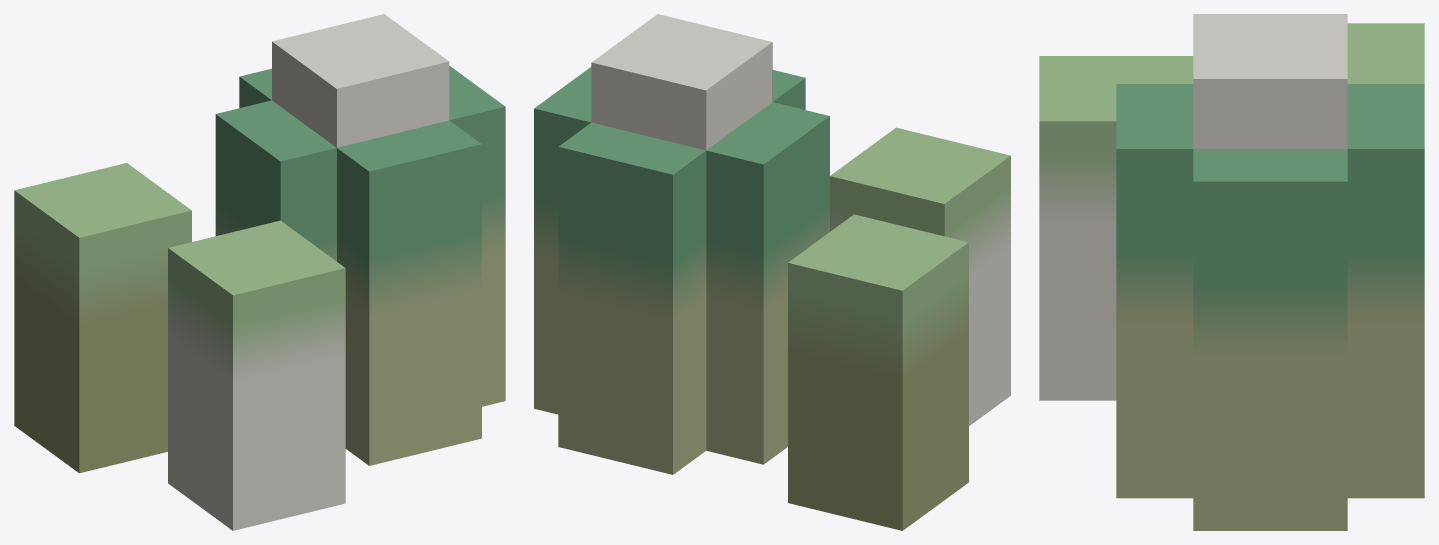
File: Kitchen_CondimentsA_00.fbx
3 renders of one model, left to right at view 1: azimuth 30°, elevation 25°; view 2: azimuth 150°, elevation 25°; view 3: azimuth 270°, elevation 25°, orthographic. The views are drawn at different scales.
Visible parts, largest first — view 1: Kitchen_CondimentsA_00; view 2: Kitchen_CondimentsA_00; view 3: Kitchen_CondimentsA_00.
Boxes of the visible parts, left/top/right/bottom form: Kitchen_CondimentsA_00: left=14, top=14, right=505, bottom=530; Kitchen_CondimentsA_00: left=534, top=14, right=1010, bottom=530; Kitchen_CondimentsA_00: left=1039, top=14, right=1424, bottom=530.
Bounding box in the file's own units: 35 × 30 × 25.
